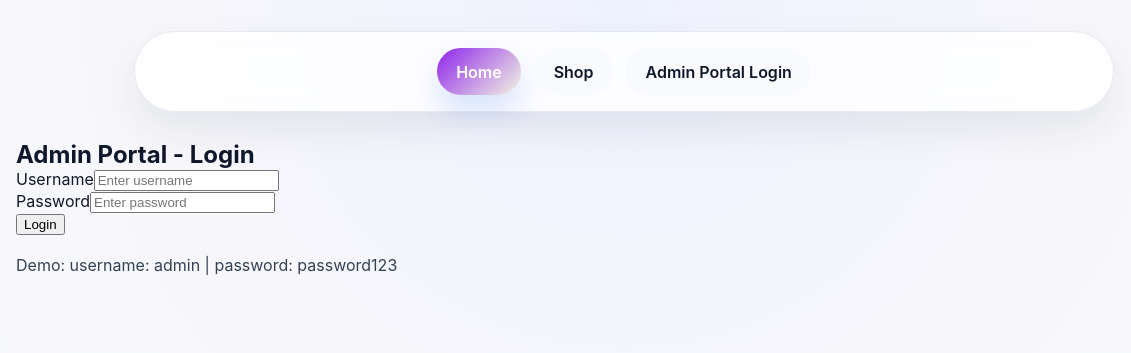
Test: AdminPortal › shows an error for invalid login
Type "baduser" into the field labelled "Username" at (186, 181), box top-left (94, 170), bottom-right (279, 191)
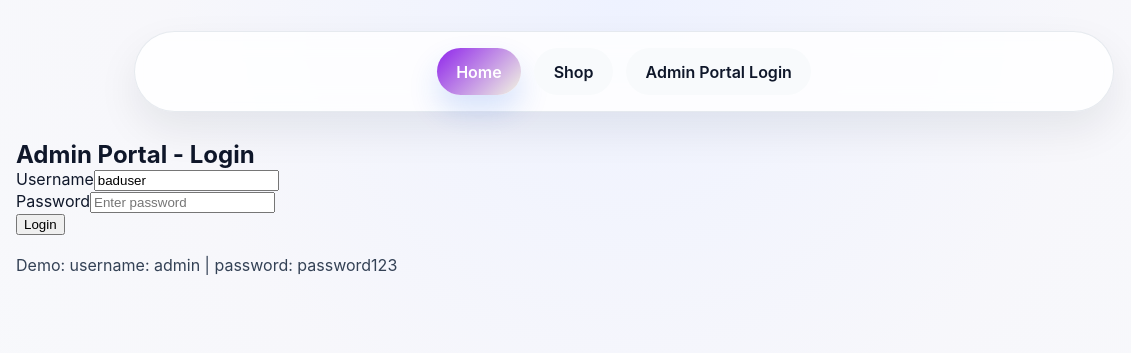
Type "badpass" into the password field labelled "Password" at (182, 203), box top-left (90, 192), bottom-right (275, 213)
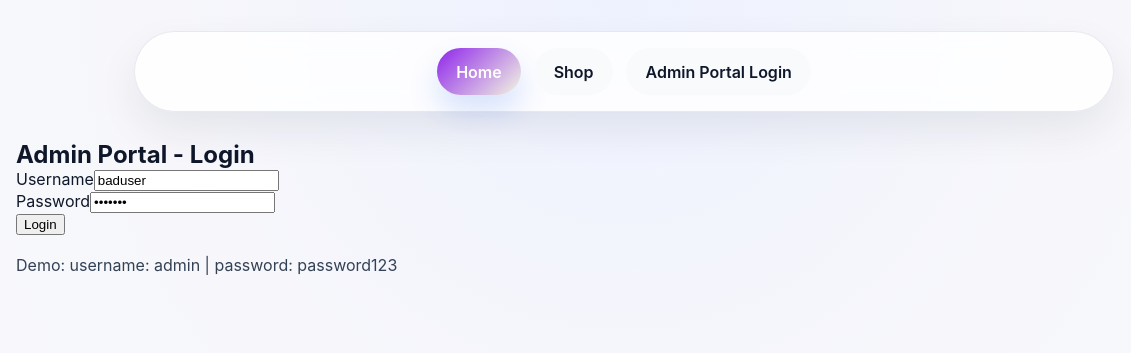
Click the button "Login" at (40, 225), box top-left (16, 214), bottom-right (65, 235)
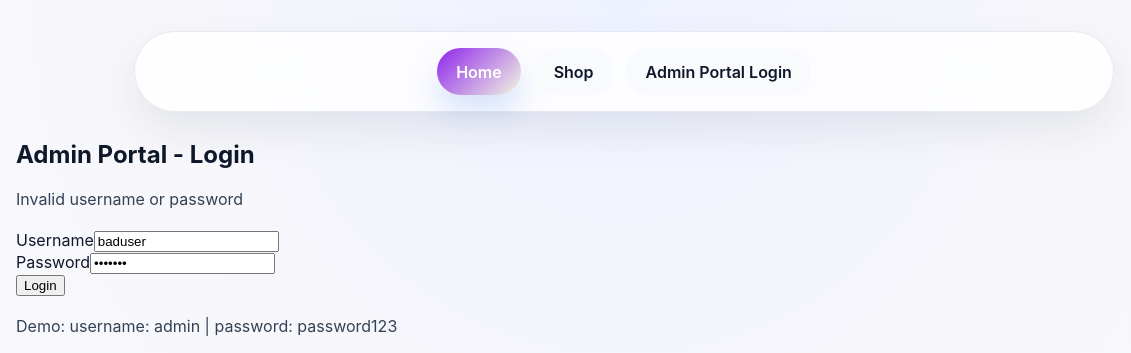
Expected: the text "Invalid username or password" is shown, top-left (16, 189), bottom-right (243, 209)
